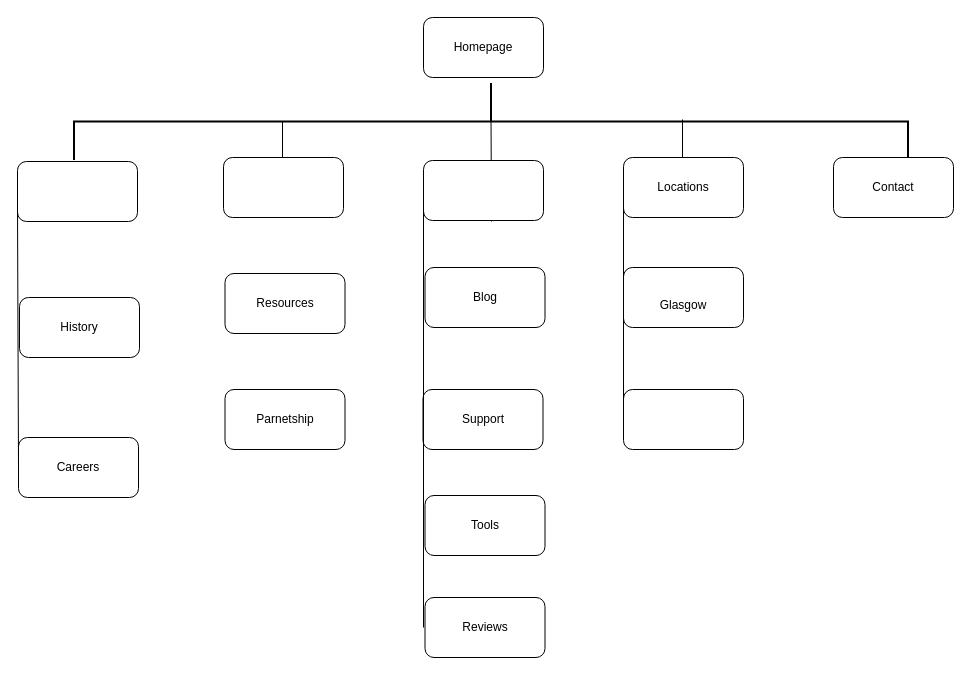
The diagram is 971 pixels wide and 675 high, and some of its shapes have lost their labels. The centre of each missing label's shape, as x and y in pixels:
About us: the point at 77,191
FAQs: the point at 483,190
Join now: the point at 283,187
London: the point at 683,419
